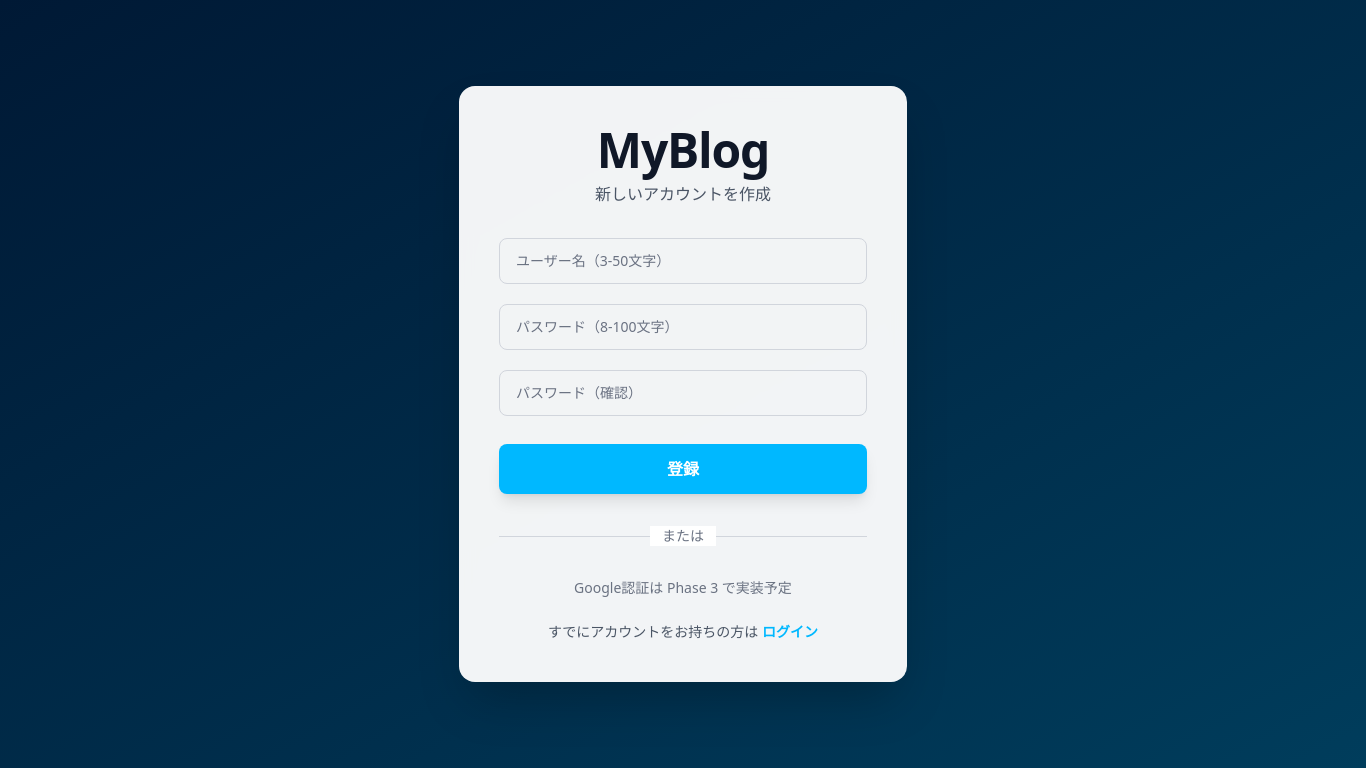
Test: RegisterPage › バリデーション › 空のフォームを送信するとバリデーションエラーが表示される
Click the button "登録" at x=683, y=469, box [499,444,867,494]
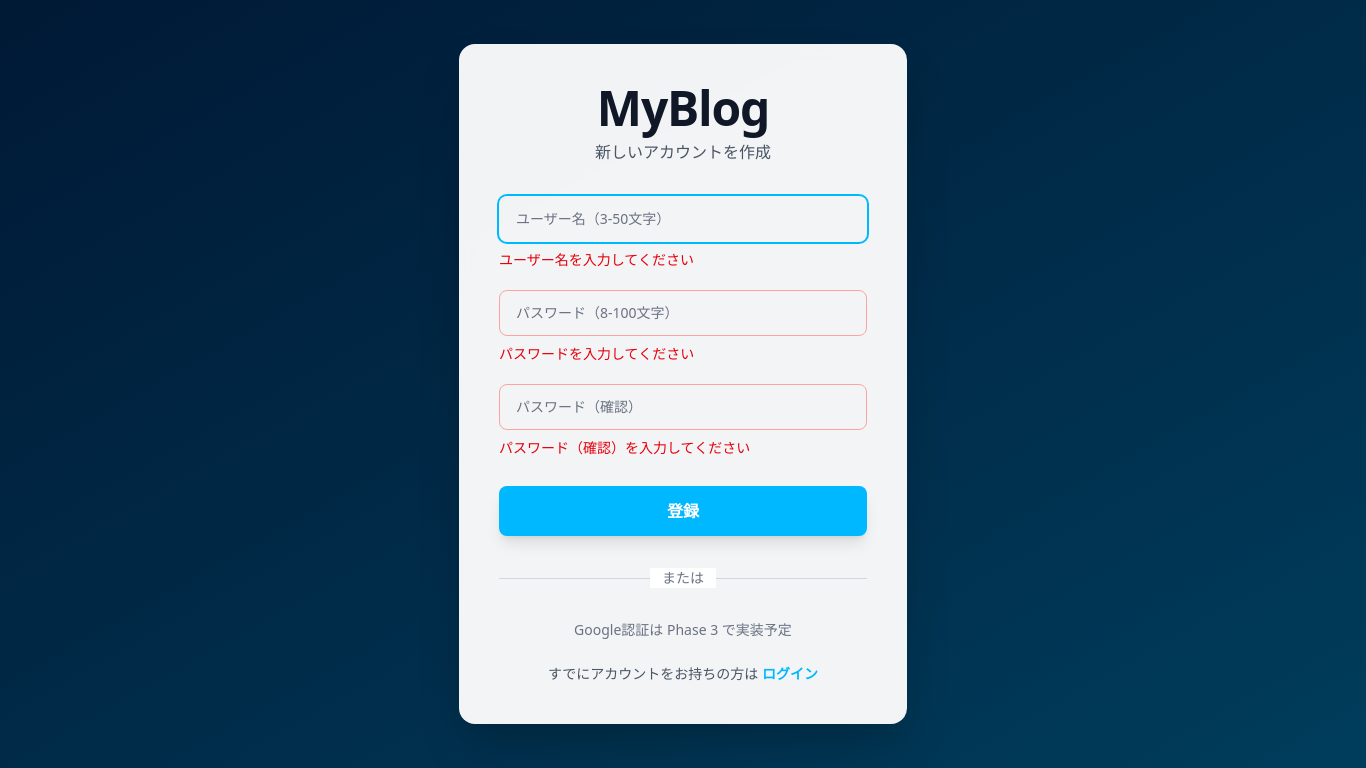
Expected: the text "ユーザー名を入力してください" is shown, [499,250,694,269]
Expected: the text "パスワードを入力してください" is shown, [499,344,694,363]
